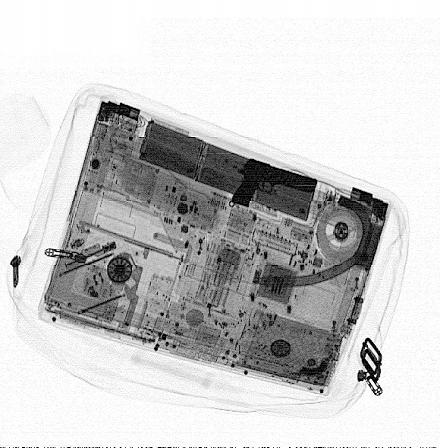Gun: (231, 159, 317, 209)
